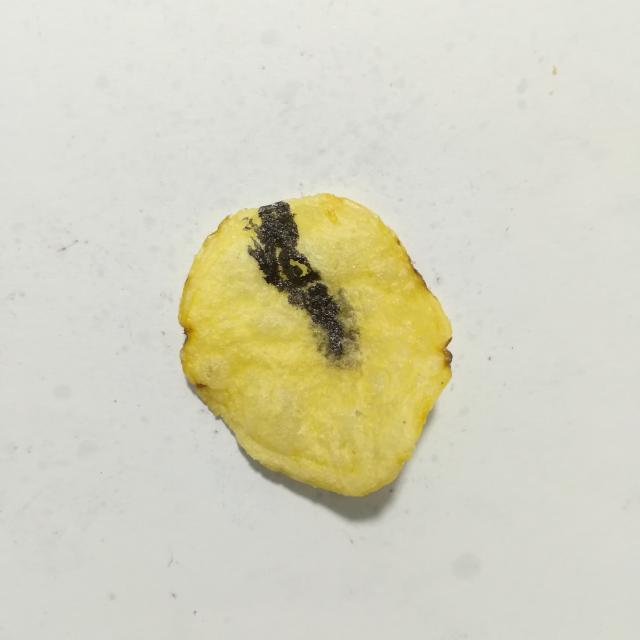chip: (178, 194, 451, 496)
damaged: (244, 201, 354, 359)
semi-damaged: (302, 286, 362, 369)
